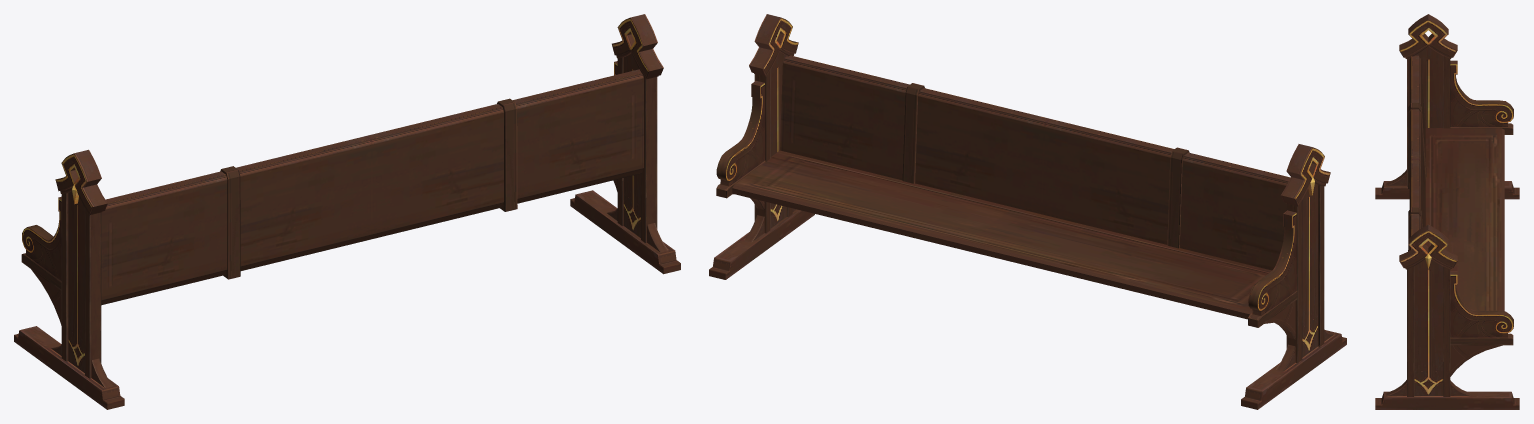
The model's file is Indoor_MdProps_Church_LongChair01_Vo_1085_1.fbx.
The picture shows the model from 3 angles, left to right: view 1: azimuth 30°, elevation 25°; view 2: azimuth 150°, elevation 25°; view 3: azimuth 270°, elevation 25°; orthographic projection. The views are drawn at different scales.
Parts seen in each view (by area): view 1: Indoor_MdProps_Church_LongChair01_Vo_1085_1; view 2: Indoor_MdProps_Church_LongChair01_Vo_1085_1; view 3: Indoor_MdProps_Church_LongChair01_Vo_1085_1.
Boxes of the visible parts, left/top/right/bottom form: Indoor_MdProps_Church_LongChair01_Vo_1085_1: left=14, top=14, right=680, bottom=409; Indoor_MdProps_Church_LongChair01_Vo_1085_1: left=709, top=14, right=1346, bottom=409; Indoor_MdProps_Church_LongChair01_Vo_1085_1: left=1375, top=14, right=1519, bottom=409.
Size of the model in its own units: 3.33 by 1.28 by 0.9346.
